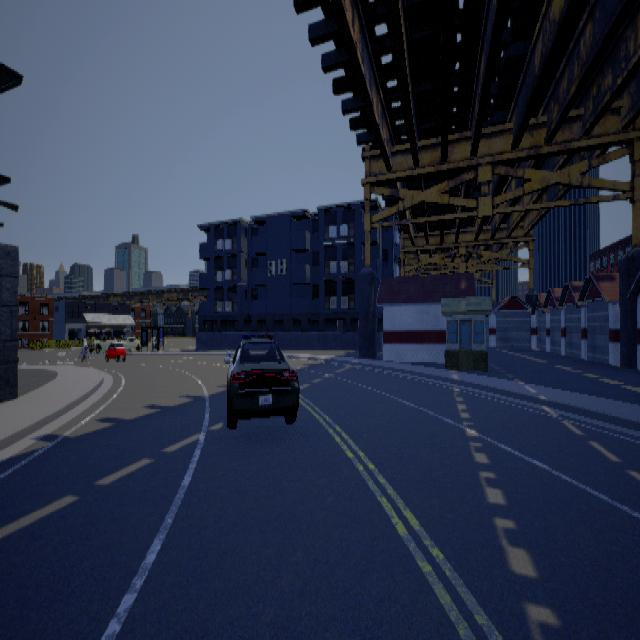vehicle: (225, 332, 301, 428), (106, 334, 128, 366)
